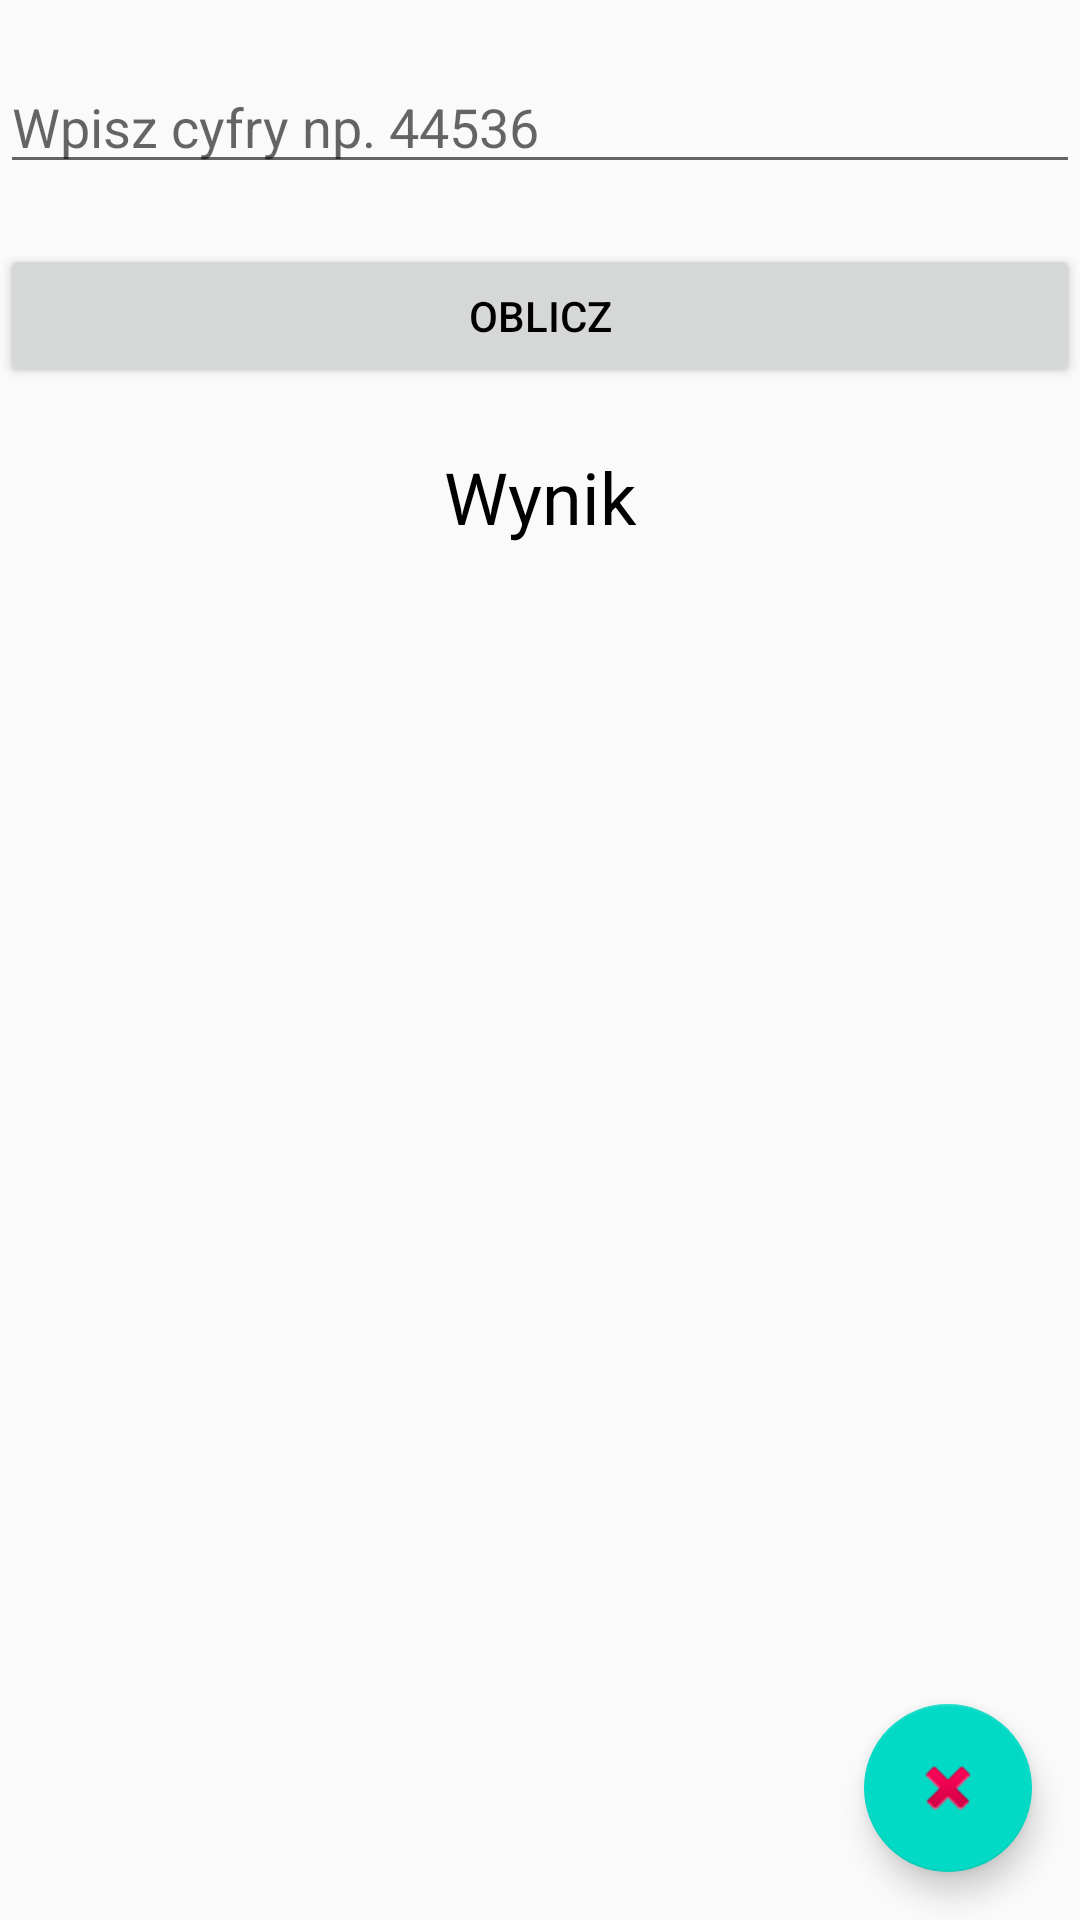

Named icons in this screenshot (1080px×1920px) and their centers, point (x, y):
Usuwanie zawartości: point (948, 1788)
